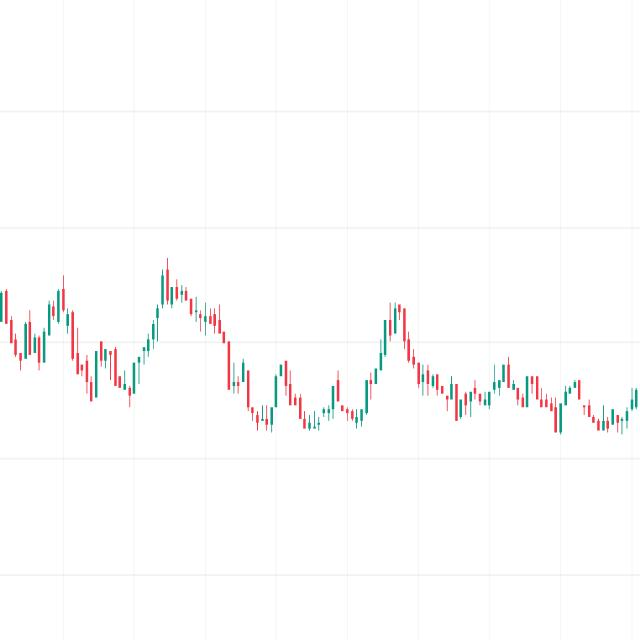Triple-Bottom: (234, 328, 388, 444)
